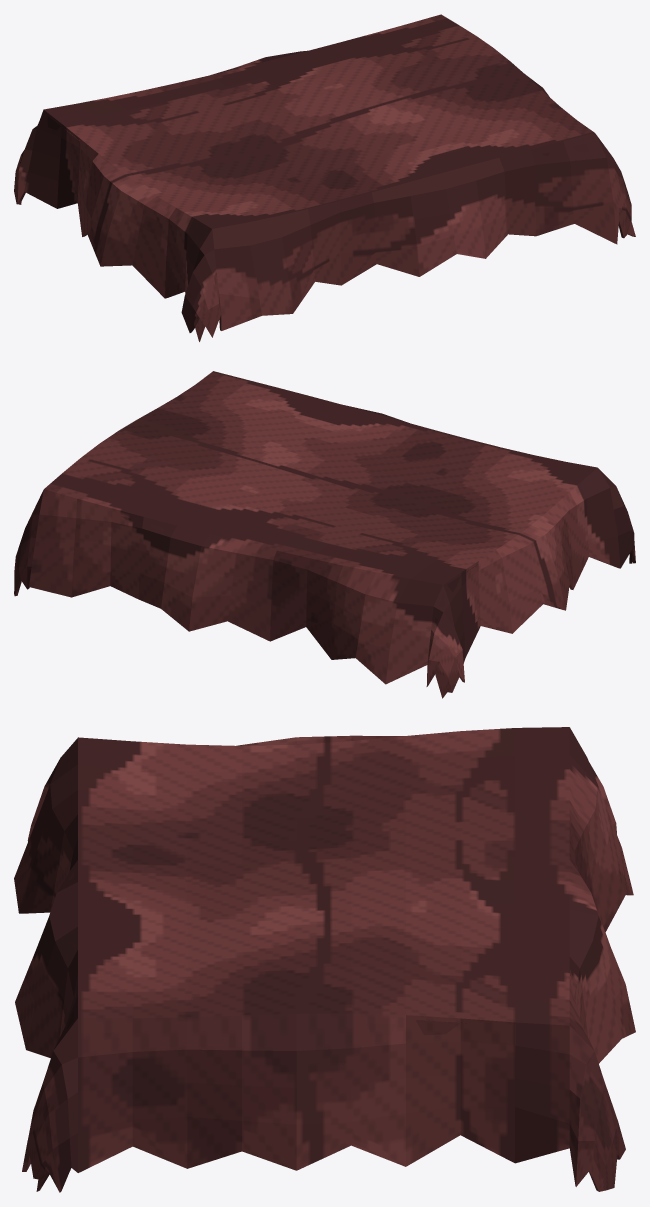
Rendered from SM_AN34_BurgundyCloth.fbx.
3 renders of one model, top to bottom at view 1: azimuth 30°, elevation 25°; view 2: azimuth 150°, elevation 25°; view 3: azimuth 270°, elevation 25°, orthographic. The views are drawn at different scales.
Parts seen in each view (by area): view 1: AN34a_Cloth; view 2: AN34a_Cloth; view 3: AN34a_Cloth.
Boxes of the visible parts, x1,y1,x2,y2 form: AN34a_Cloth: (14,14,635,341); AN34a_Cloth: (14,371,635,698); AN34a_Cloth: (14,727,635,1192).
Bounding box in the file's own units: 2.09 × 0.457 × 1.59.
